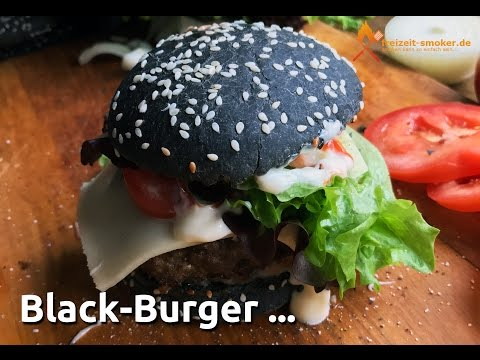hamburger_buns: (105, 25, 389, 303)
